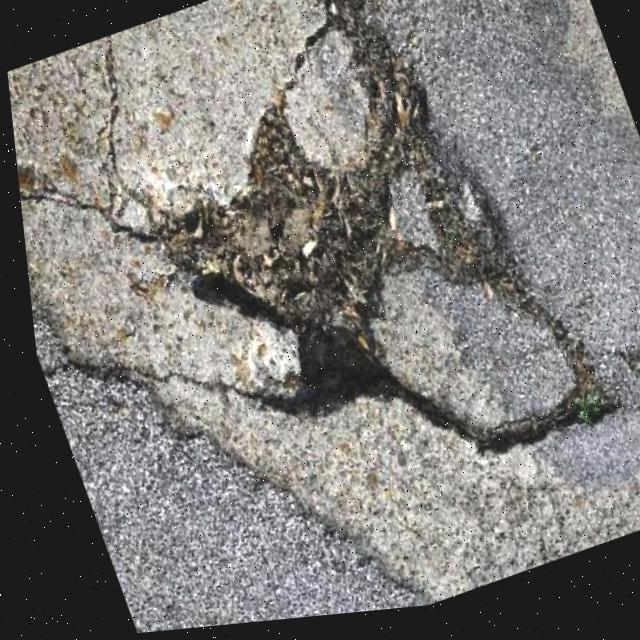Pothole: (88, 0, 625, 562)
